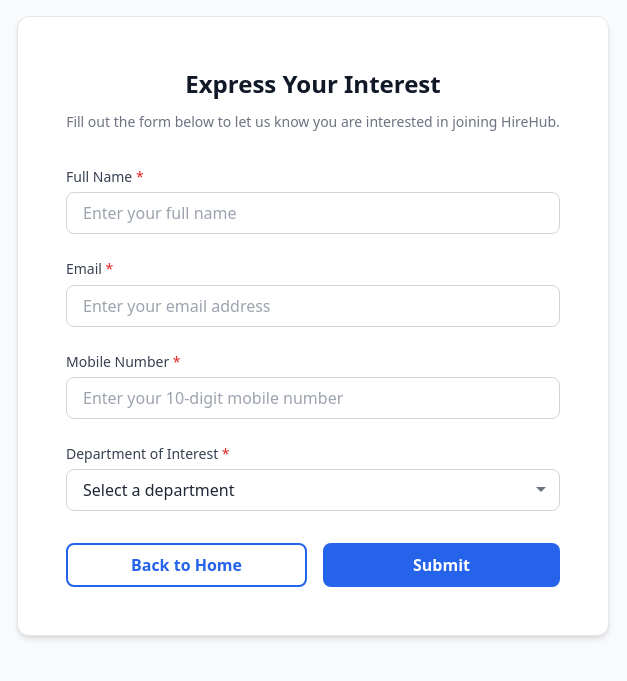
InterestForm › validation for empty fields › shows error for empty Email on blur
The image size is (627, 681).
Click the field labelled "Email" at (313, 306), box [66,285,560,327]
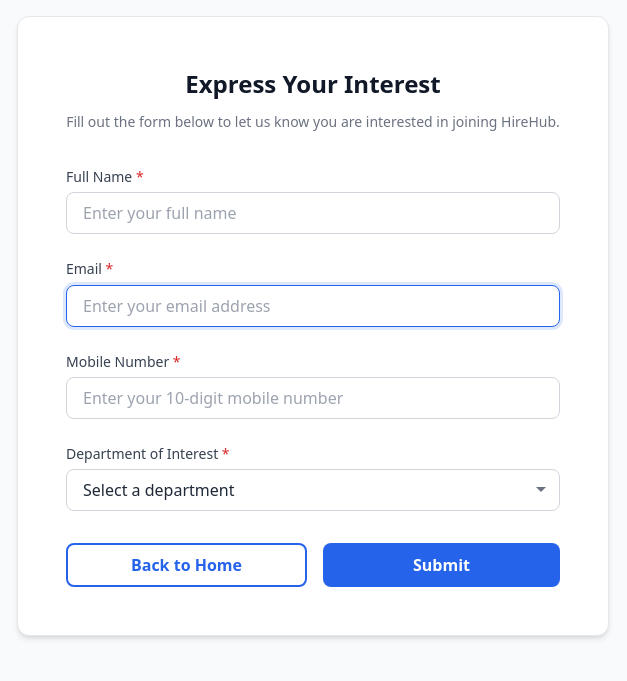
Press Tab
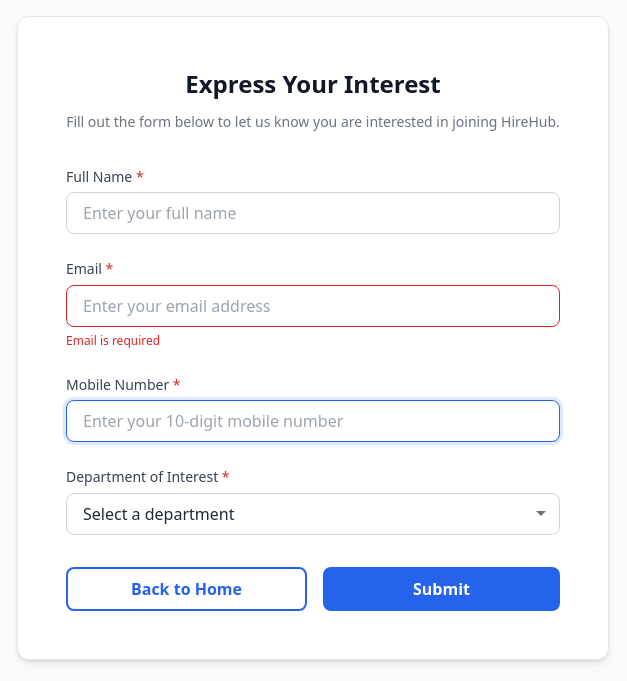
Expected: the text "Email is required" is shown, [66,332,160,349]
